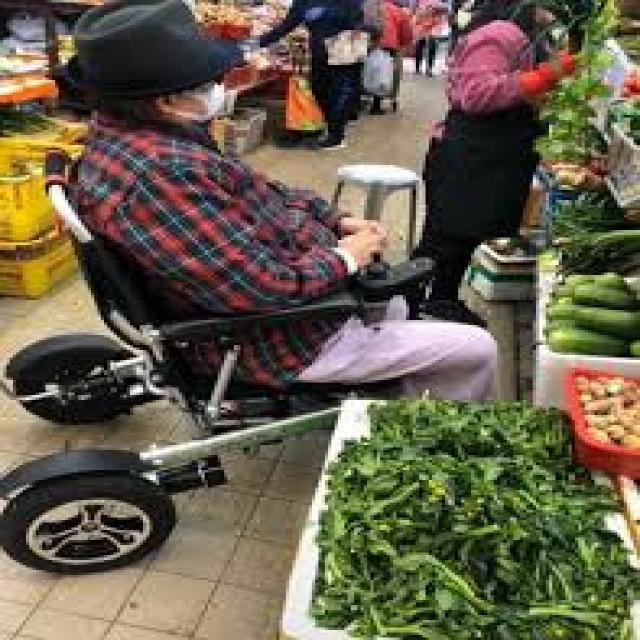wheelchairs: (13, 153, 403, 555)
